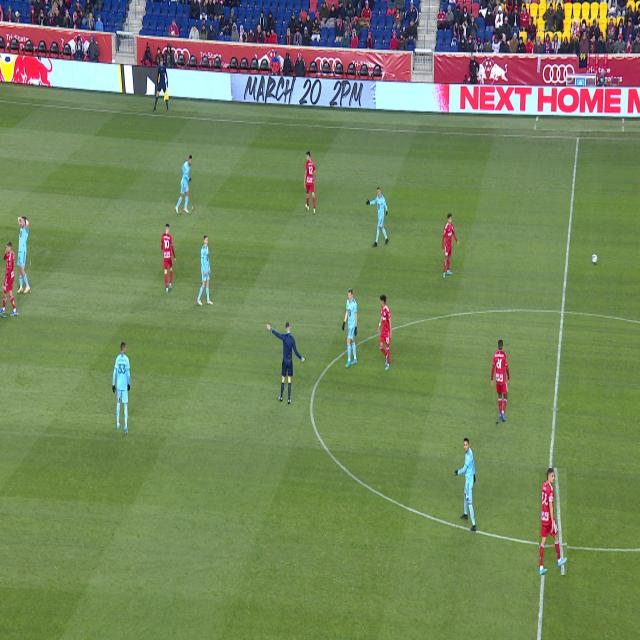football: (592, 254, 598, 264)
player: (539, 468, 567, 575), (455, 438, 476, 532), (112, 343, 130, 434), (491, 340, 510, 422), (342, 288, 358, 368), (0, 243, 17, 316), (367, 187, 388, 246), (442, 213, 459, 278), (197, 235, 212, 306), (378, 295, 392, 371), (161, 224, 176, 293), (176, 156, 192, 213), (18, 217, 30, 293), (304, 152, 316, 213)
referee: (267, 322, 305, 403)
